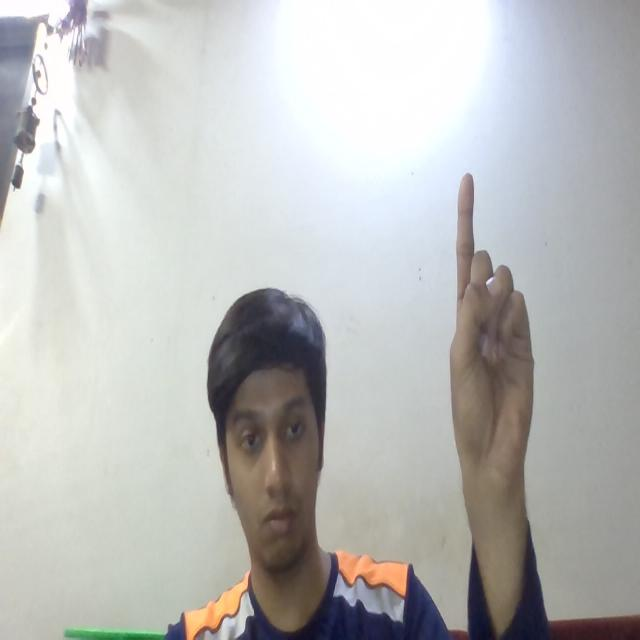Z: (431, 164, 558, 515)
